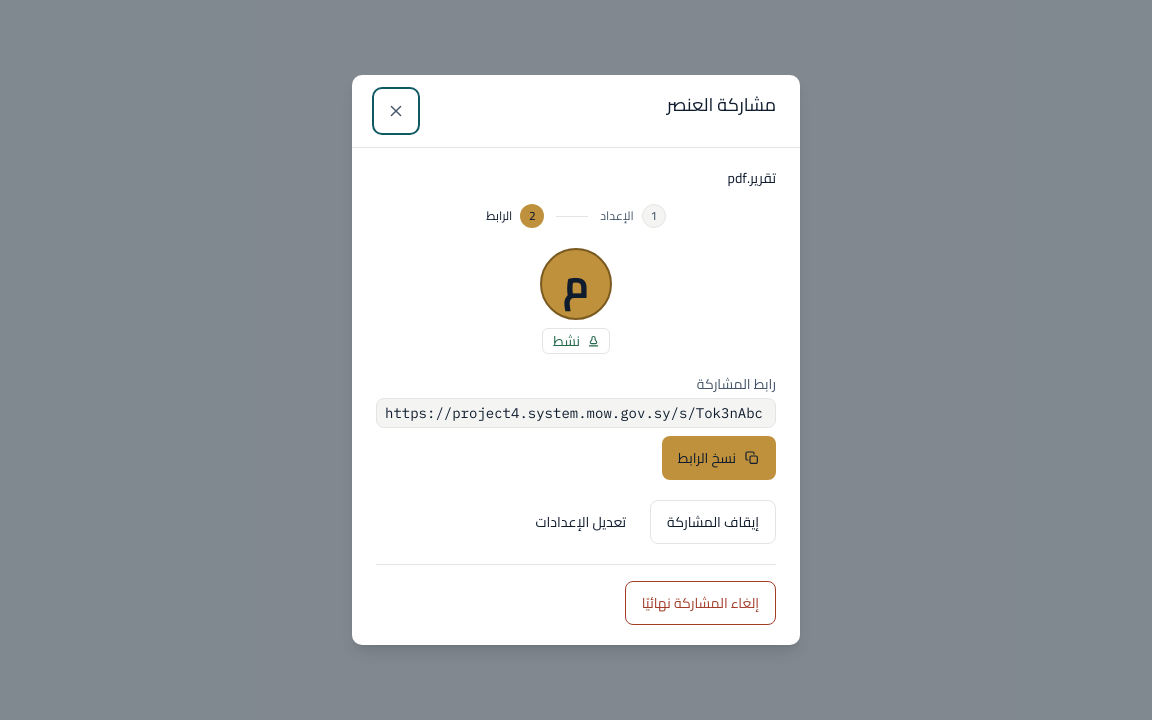
Test: ShareModal — expiry picker (§3.3 / §4.5) › a PAST Damascus datetime shows an inline error and does NOT PATCH the share
Click the button "تعديل الإعدادات" at (581, 522), box [520,500,642,544]
(page scrolled)
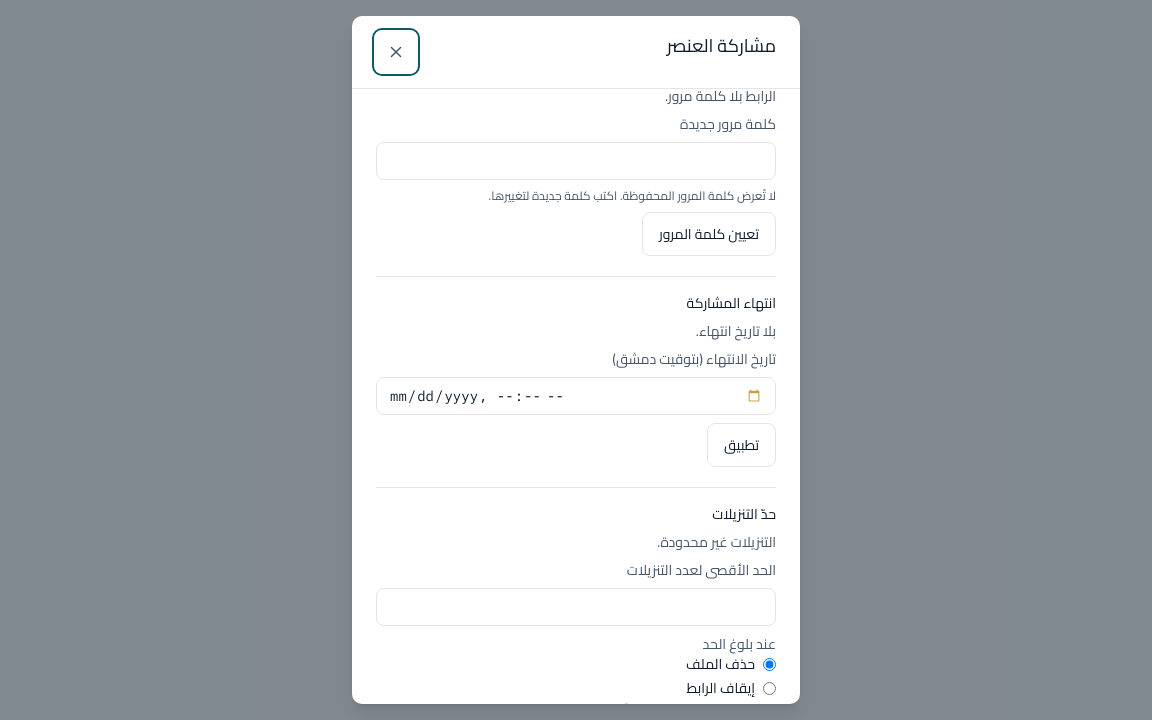
Type "2020-01-01T00:00" into the field labelled "تاريخ الانتهاء (بتوقيت دمشق)" at (576, 396), box [376,377,776,415]
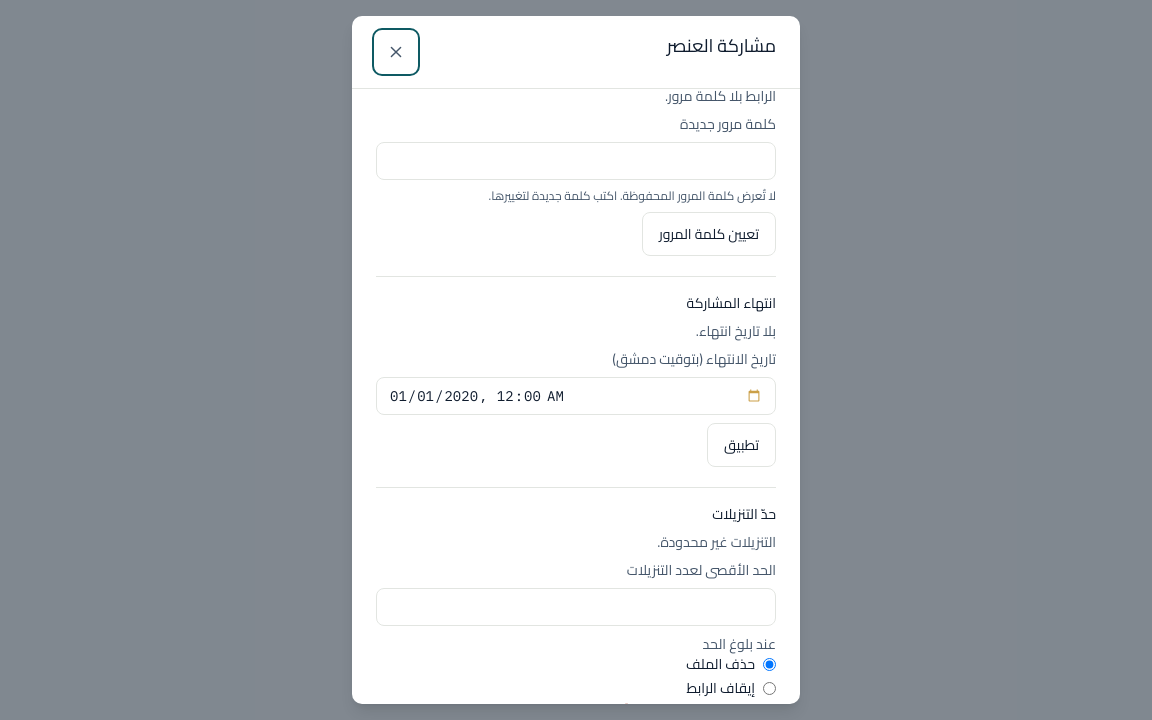
Click the button "تطبيق" at (742, 445), box [707,423,776,467]
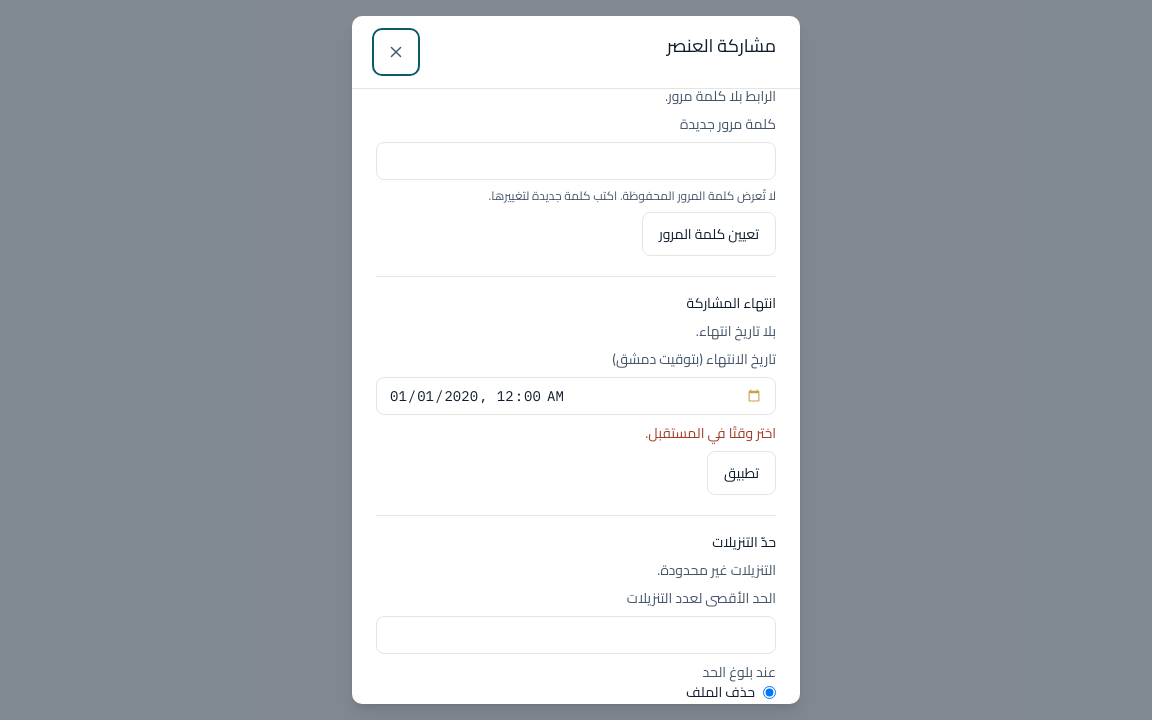
Now the text "اختر وقتًا في المستقبل." is shown, box [645,420,776,446]
